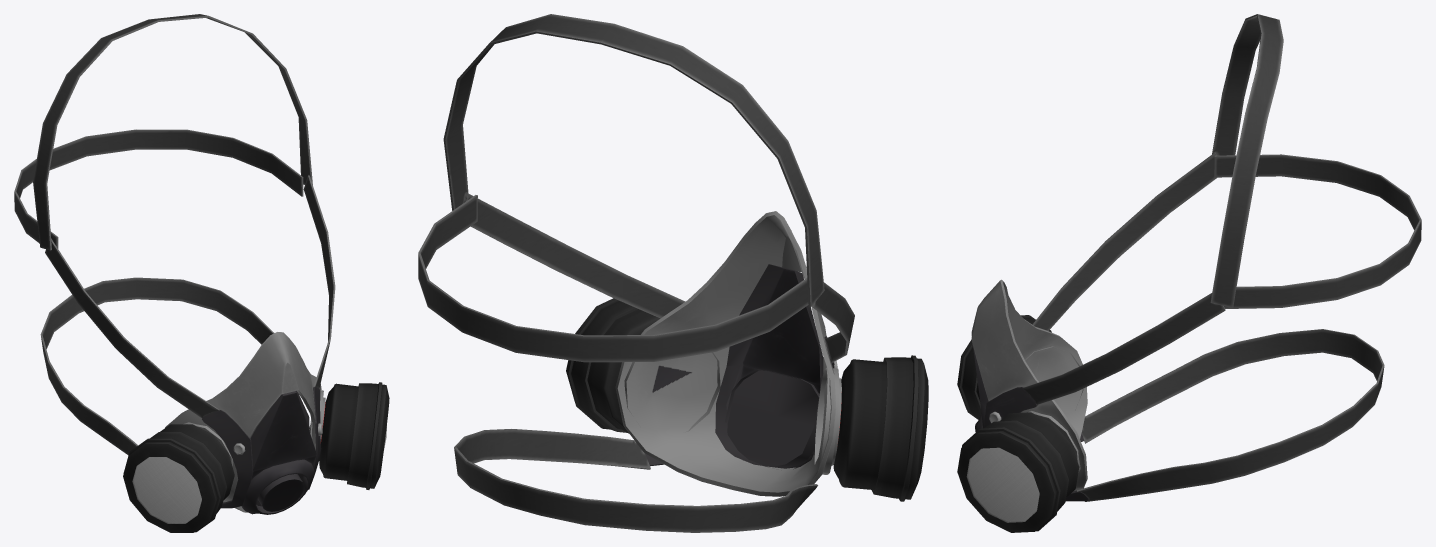
File: mascarilla_media_cara.fbx
3 views of the same model, side by side, from view 1: azimuth 30°, elevation 25°; view 2: azimuth 150°, elevation 25°; view 3: azimuth 270°, elevation 25° (orthographic). The views are drawn at different scales.
Visible parts, largest first — view 1: Plane005, Box002, Box001; view 2: Plane005, Box001, Box002; view 3: Plane005, Box002, Box001.
Part boxes in pixels (left/top/right/bottom): Plane005: left=14, top=14, right=335, bottom=455; Box002: left=123, top=382, right=389, bottom=532; Box001: left=165, top=332, right=325, bottom=514; Plane005: left=418, top=14, right=854, bottom=532; Box001: left=615, top=211, right=841, bottom=497; Box002: left=566, top=298, right=928, bottom=501; Plane005: left=1023, top=14, right=1421, bottom=501; Box002: left=957, top=315, right=1079, bottom=532; Box001: left=971, top=279, right=1088, bottom=501.
Bounding box in the file's own units: 20.69 × 30.35 × 28.32.
Materials: 1 (1 with a texture image).
